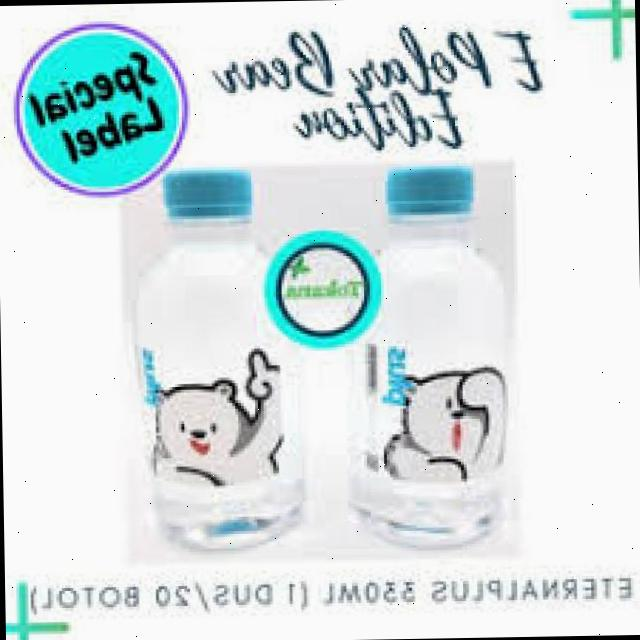bottle: (319, 145, 529, 557), (132, 152, 318, 564)
